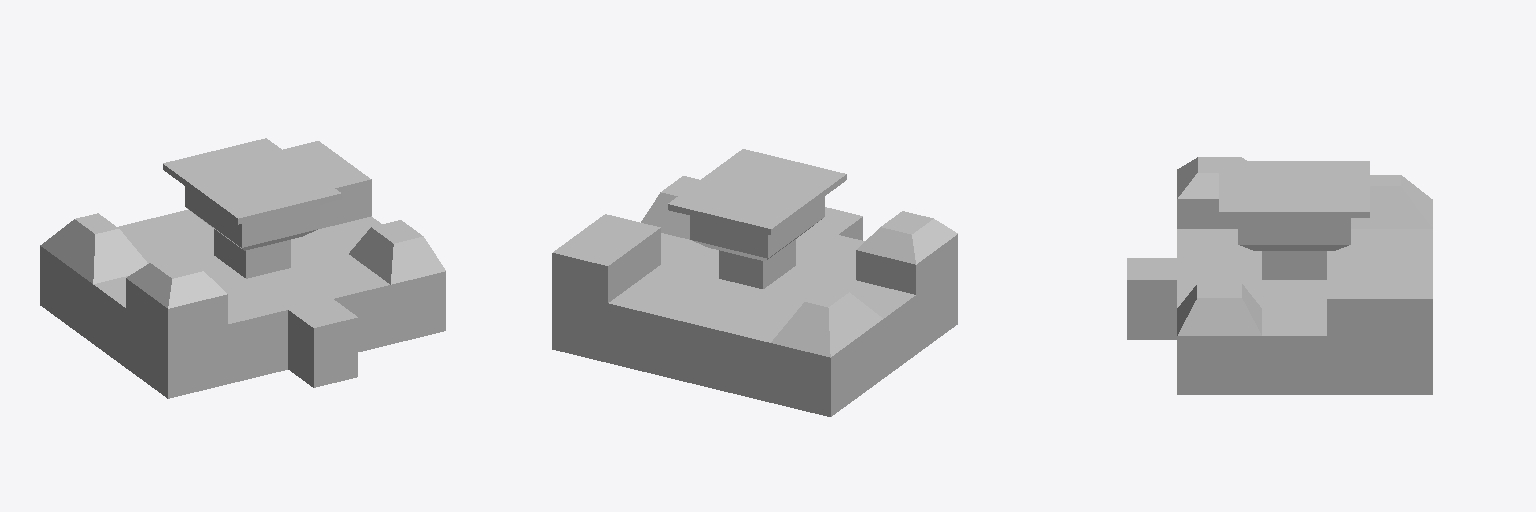
Rendered from RadarBase.obj.
3 views of the same model, side by side, from view 1: azimuth 30°, elevation 25°; view 2: azimuth 150°, elevation 25°; view 3: azimuth 270°, elevation 25° (orthographic).
Parts seen in each view (by area): view 1: Cube_Cube.001; view 2: Cube_Cube.001; view 3: Cube_Cube.001.
Boxes of the visible parts, box(x1,y1,x2,y2) form: Cube_Cube.001: box(40, 138, 445, 398); Cube_Cube.001: box(552, 149, 957, 416); Cube_Cube.001: box(1127, 157, 1432, 394).
Bounding box in the file's own units: 9.75 × 4.78 × 9.28.